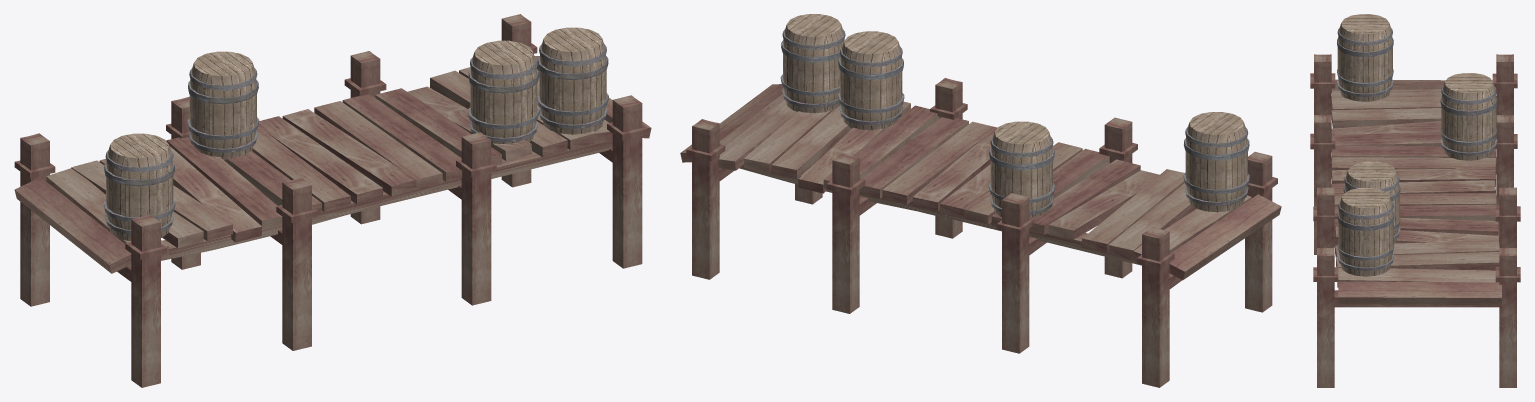
3 renders of one model, left to right at view 1: azimuth 30°, elevation 25°; view 2: azimuth 150°, elevation 25°; view 3: azimuth 270°, elevation 25°, orthographic. The views are drawn at different scales.
Visible parts, largest first — view 1: Plank008, Plank009, Pole1, Pole002, Cylinder001, Cylinder003, Cylinder002, Cylinder004, Undersite plank001, Rim002, Rim, Rim001 (+2 smaller); view 2: Plank009, Plank008, Pole1, Pole002, Cylinder004, Cylinder002, Cylinder001, Cylinder003, Rim001, Rim003, Rim, Rim002 (+2 smaller); view 3: Plank009, Plank008, Pole002, Pole1, Cylinder001, Cylinder004, Cylinder003, Cylinder002, Rim002, Rim, Rim003, Rim001.
Part boxes in pixels (<box>): Plank008: <box>14,116,382,273</box>; Plank009: <box>282,56,651,196</box>; Pole1: <box>14,96,317,387</box>; Pole002: <box>344,14,647,305</box>; Cylinder001: <box>539,27,606,134</box>; Cylinder003: <box>189,51,256,159</box>; Cylinder002: <box>470,40,537,147</box>; Cylinder004: <box>106,133,173,240</box>; Undersite plank001: <box>379,141,612,206</box>; Rim002: <box>187,68,259,153</box>; Rim: <box>537,44,608,128</box>; Rim001: <box>468,57,539,142</box>; Plank009: <box>680,84,997,211</box>; Plank008: <box>940,142,1281,279</box>; Pole1: <box>996,117,1277,387</box>; Pole002: <box>686,78,967,313</box>; Cylinder004: <box>1185,112,1247,212</box>; Cylinder002: <box>840,31,902,130</box>; Cylinder001: <box>783,14,844,113</box>; Cylinder003: <box>990,121,1052,217</box>; Rim001: <box>838,46,904,125</box>; Rim003: <box>1183,127,1249,205</box>; Rim: <box>780,29,845,108</box>; Rim002: <box>988,137,1054,214</box>; Plank009: <box>1331,180,1501,304</box>; Plank008: <box>1331,79,1495,186</box>; Pole002: <box>1313,187,1520,387</box>; Pole1: <box>1310,54,1517,254</box>; Cylinder001: <box>1338,188,1393,276</box>; Cylinder004: <box>1337,14,1392,101</box>; Cylinder003: <box>1441,73,1496,160</box>; Cylinder002: <box>1344,161,1399,243</box>; Rim002: <box>1440,86,1497,156</box>; Rim: <box>1337,201,1394,271</box>; Rim003: <box>1337,27,1393,97</box>; Rim001: <box>1343,175,1400,239</box>.
Bounding box in the file's own units: 181 × 67.19 × 73.46.
3 materials, 3 textured.
